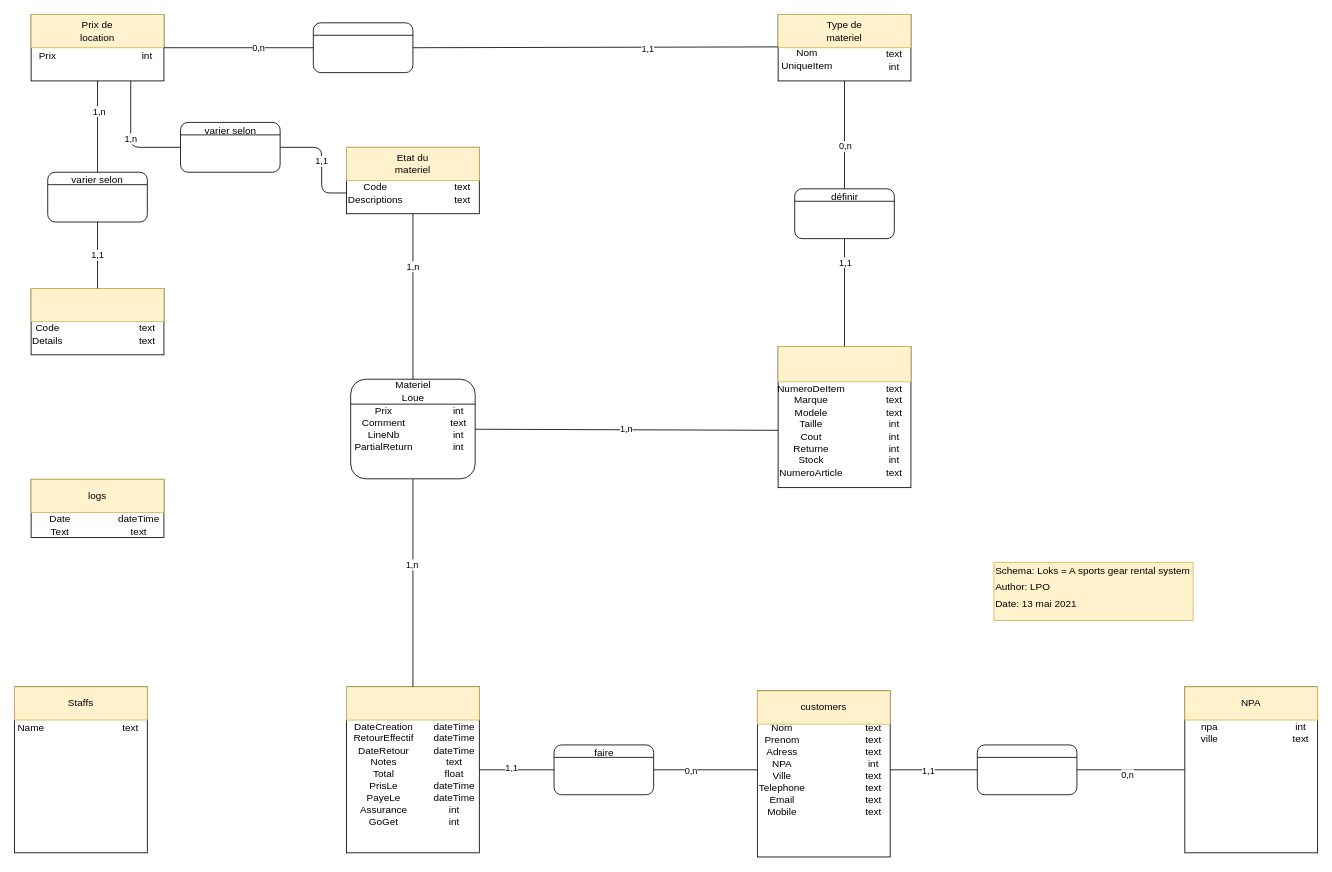
Some shapes in this 1332 by 872 pixel diagram are drawn without their labels. The centre of each missing label's shape, as x and y in pixels:
avoir: the point at 362,47
Contracts: the point at 412,703
Durée: the point at 97,305
habiter: the point at 1026,769
Materiel: the point at 844,364
